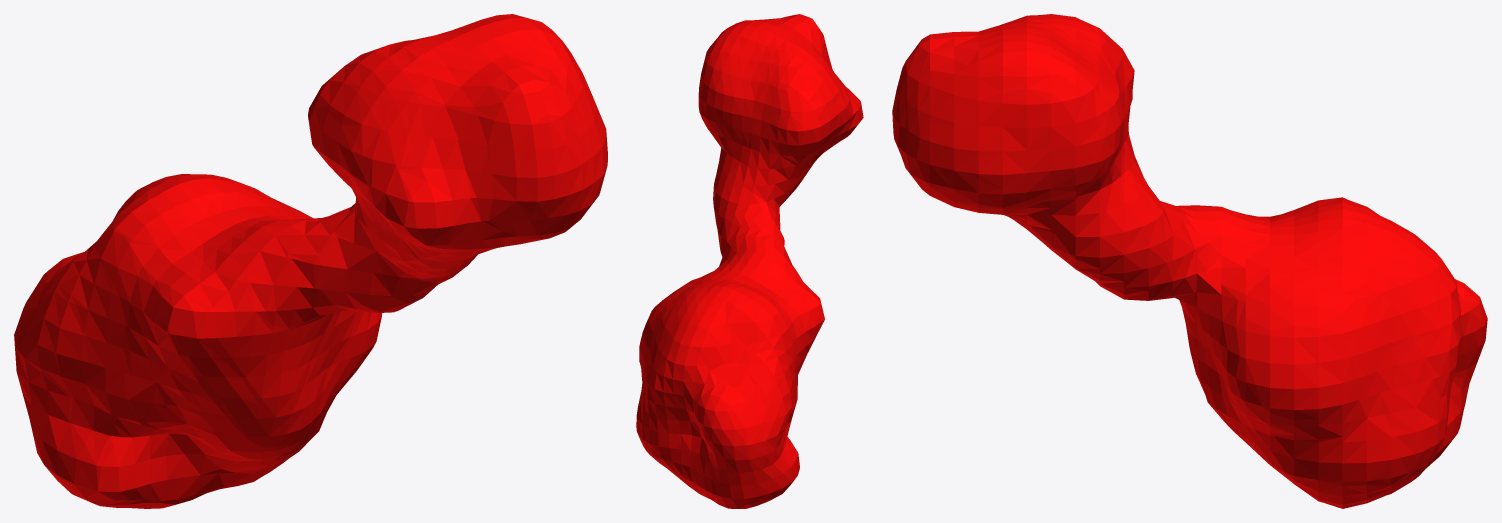
Rendered from phnA_coarse.dae.
3 renders of one model, left to right at view 1: azimuth 30°, elevation 25°; view 2: azimuth 150°, elevation 25°; view 3: azimuth 270°, elevation 25°, orthographic. The views are drawn at different scales.
Parts seen in each view (by area): view 1: phnA; view 2: phnA; view 3: phnA.
Boxes of the visible parts, x1,y1,x2,y2 form: phnA: [14, 14, 607, 508]; phnA: [636, 14, 863, 508]; phnA: [892, 14, 1487, 508].
Size of the model in its own units: 35.27 by 58.23 by 61.
